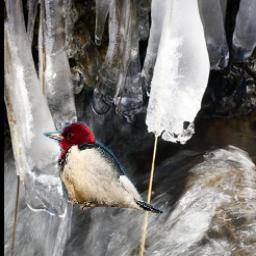Woodpecker: (43, 121, 163, 213)
